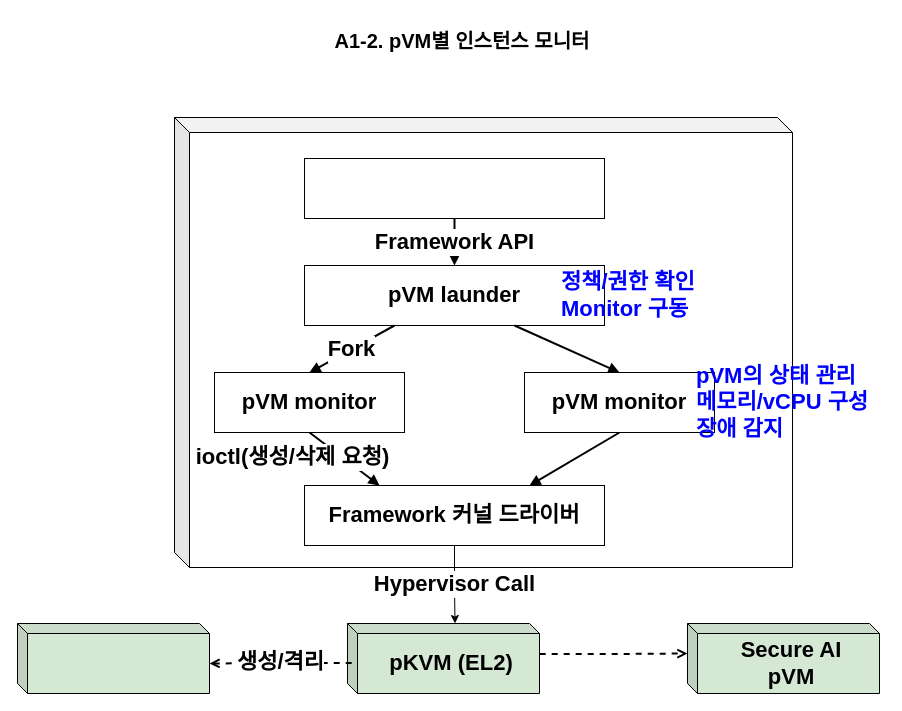
Some shapes in this 902 by 711 pixel diagram are drawn without their labels. Here are the shapes that lost their labels. From the top down, the box of each, then its label:
(304, 158, 604, 218): Host Application
(174, 116, 792, 568): Host (비신뢰)
(16, 622, 210, 694): Secure Camera pVM
